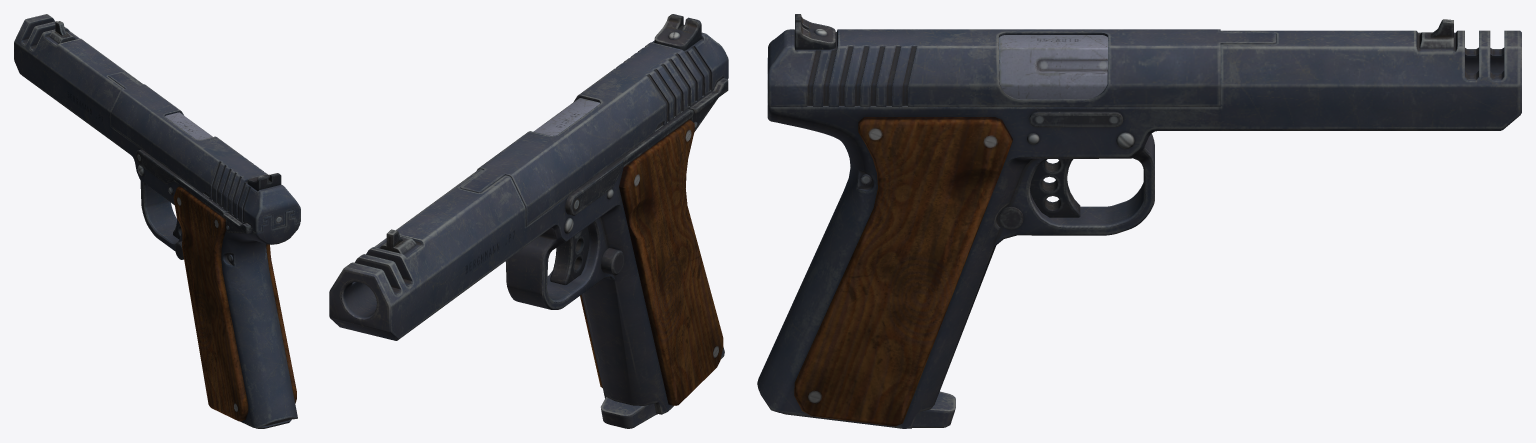
The model's file is Pistol.fbx.
The picture shows the model from 3 angles, left to right: view 1: azimuth 30°, elevation 25°; view 2: azimuth 150°, elevation 25°; view 3: azimuth 270°, elevation 25°; orthographic projection. The views are drawn at different scales.
Visible parts, largest first — view 1: base; view 2: base; view 3: base.
Part boxes in pixels (x1=…): base: x1=14, y1=14, x2=300, y2=428; base: x1=329, y1=14, x2=728, y2=428; base: x1=757, y1=14, x2=1521, y2=428.
Size of the model in its own units: 10.32 by 45.54 by 78.9.
